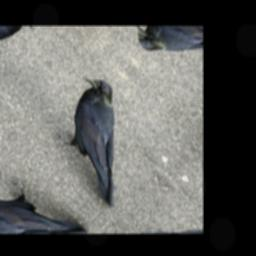Crow: (31, 68, 173, 210)
